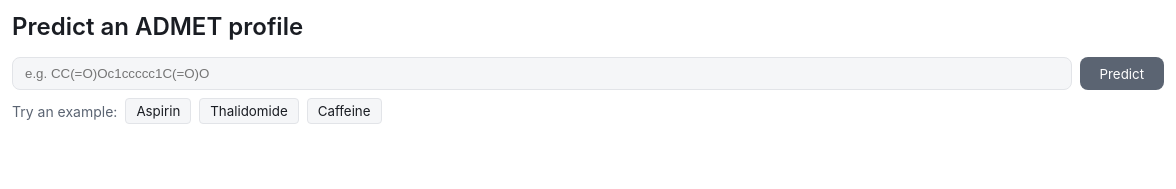
Test: PredictPage - E2E smoke flow › shows a server-unavailable error banner when the backend is unreachable
Step 1. Type "CCO" into the field labelled "SMILES string" → x=542, y=74, box 12,57 -> 1072,90
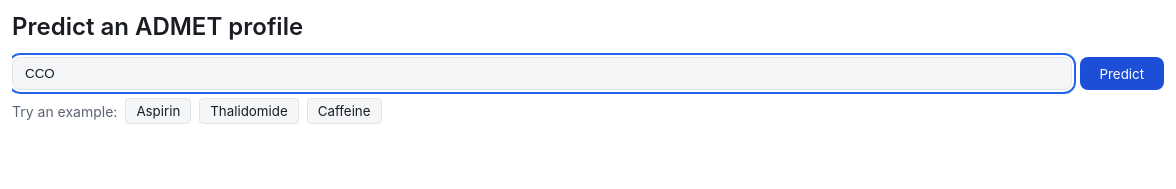
Step 2. Click the button "Predict" → x=1122, y=74, box 1080,57 -> 1164,90
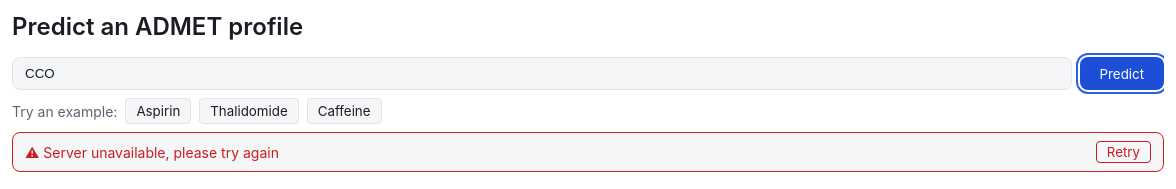
Expected: the message shows "Server unavailable, please try again", 43,144 -> 279,161
